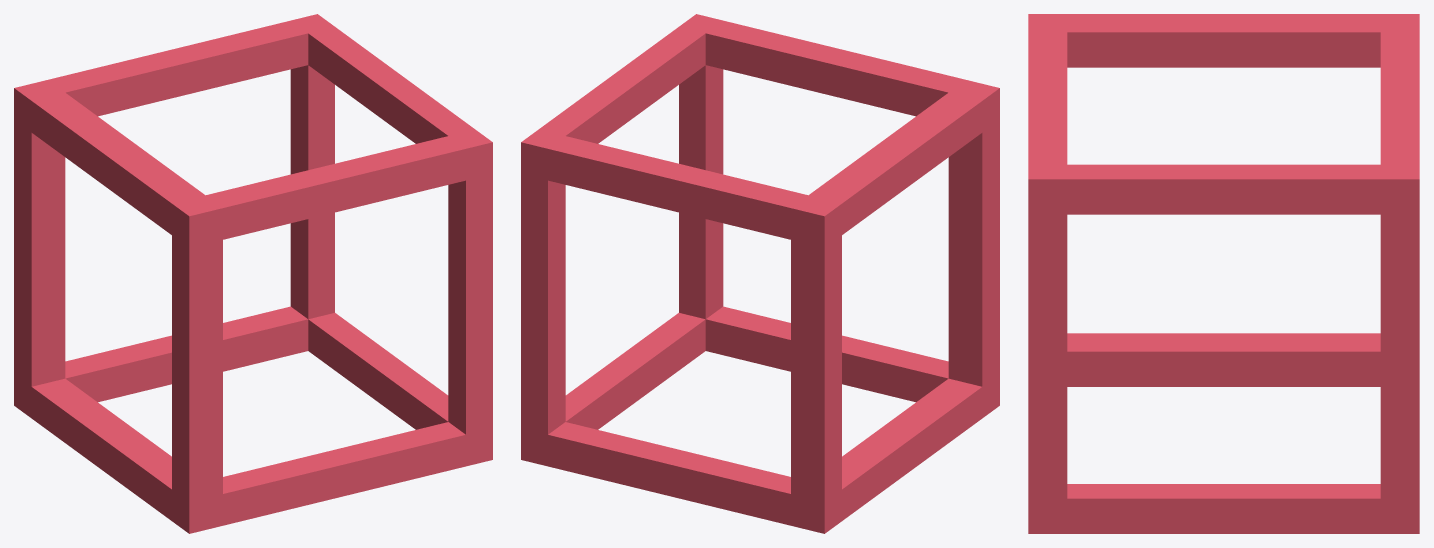
Rendered from box_frame.glb.
The picture shows the model from 3 angles, left to right: view 1: azimuth 30°, elevation 25°; view 2: azimuth 150°, elevation 25°; view 3: azimuth 270°, elevation 25°; orthographic projection. The views are drawn at different scales.
Parts seen in each view (by area): view 1: Object_2; view 2: Object_2; view 3: Object_2.
Part boxes in pixels (x1,y1,x2,y2): Object_2: (14,14,492,533); Object_2: (521,14,999,533); Object_2: (1028,14,1419,533).
Bounding box in the file's own units: 20 × 20 × 20.
